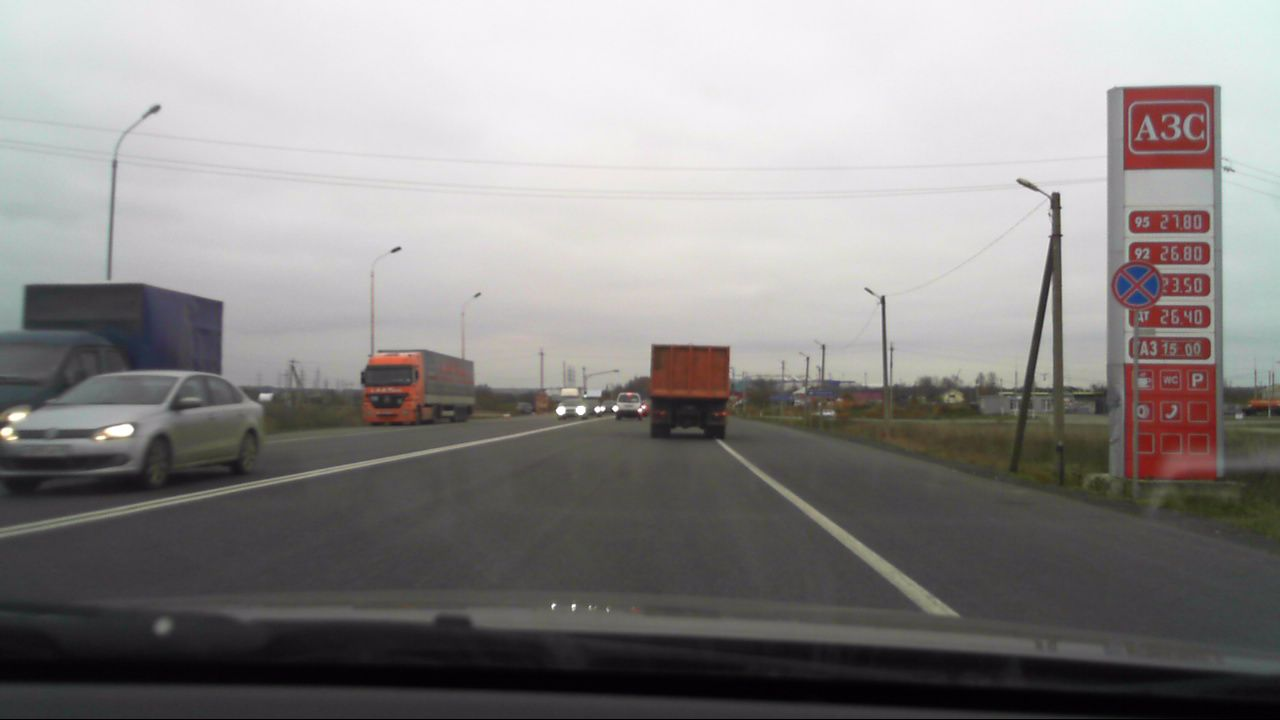No Parking: (1111, 259, 1164, 308)
